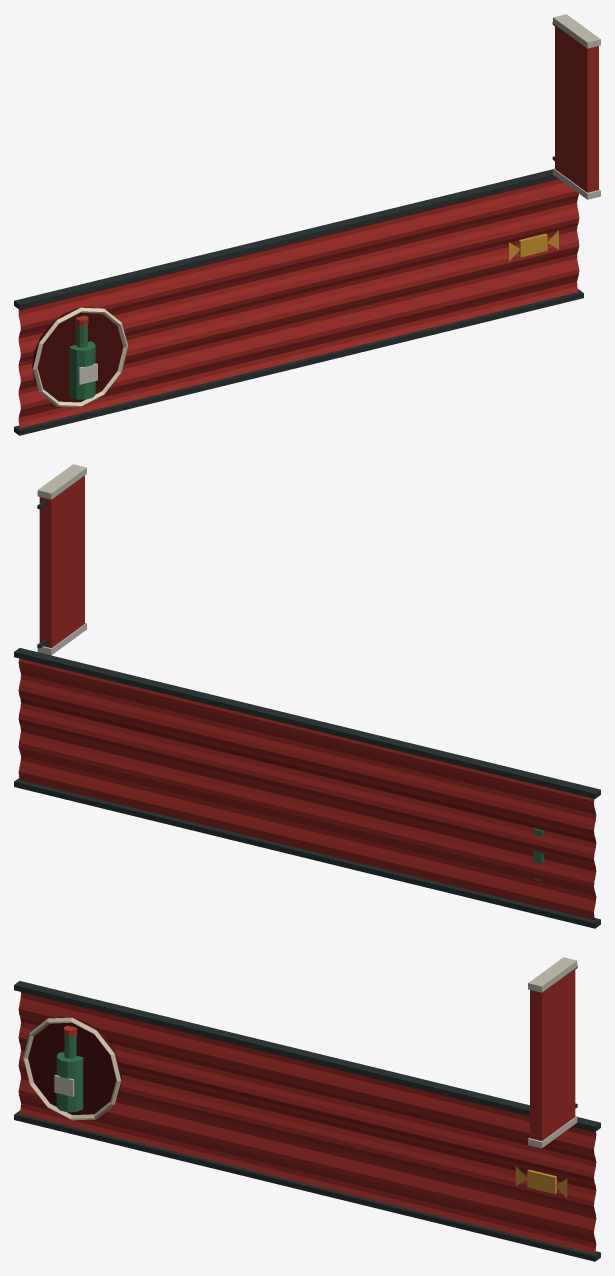
The model's file is bang_tap_hoa_co_ut_60.glb.
3 views of the same model, one above another, from view 1: azimuth 30°, elevation 25°; view 2: azimuth 150°, elevation 25°; view 3: azimuth 330°, elevation 25° (orthographic). The views are drawn at different scales.
Parts seen in each view (by area): view 1: bang_tap_hoa_co_ut_60; view 2: bang_tap_hoa_co_ut_60; view 3: bang_tap_hoa_co_ut_60.
Boxes of the visible parts, x1,y1,x2,y2 form: bang_tap_hoa_co_ut_60: (14,14,600,435); bang_tap_hoa_co_ut_60: (14,464,600,928); bang_tap_hoa_co_ut_60: (14,957,600,1261).
Size of the model in its own units: 5.86 by 2.86 by 0.72.
